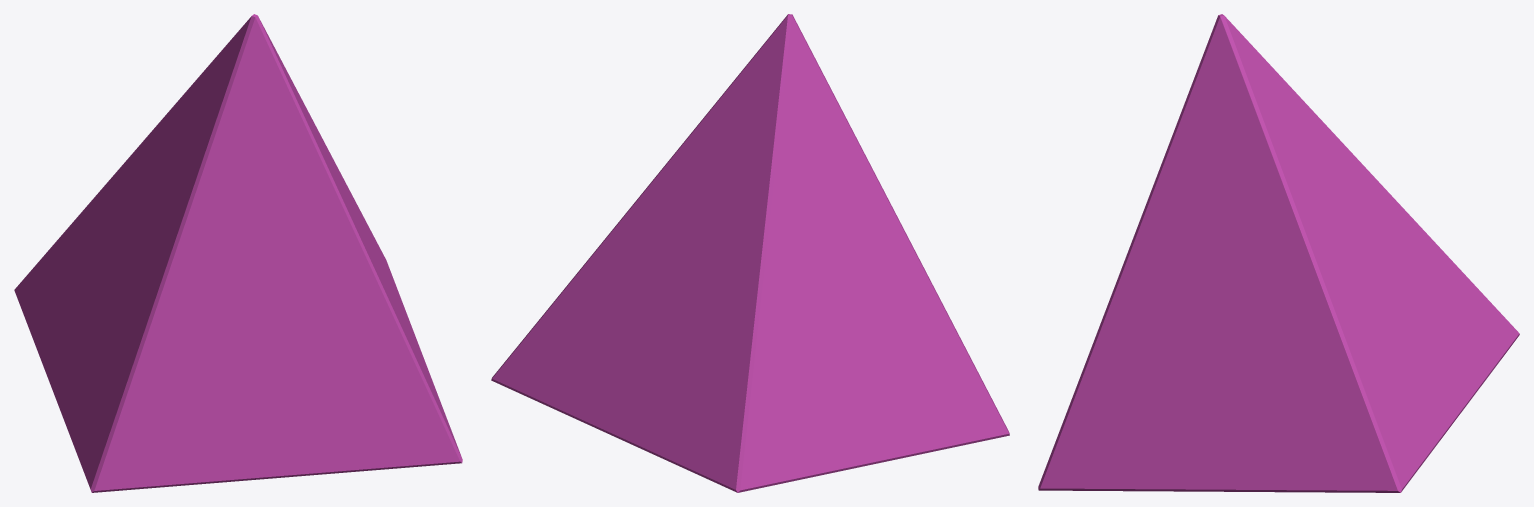
Rendered from pyramide.fbx.
3 renders of one model, left to right at view 1: azimuth 30°, elevation 25°; view 2: azimuth 150°, elevation 25°; view 3: azimuth 270°, elevation 25°, orthographic. The views are drawn at different scales.
Parts seen in each view (by area): view 1: Pyramid001; view 2: Pyramid001; view 3: Pyramid001.
Boxes of the visible parts, left/top/right/bottom form: Pyramid001: left=14, top=14, right=462, bottom=492; Pyramid001: left=491, top=14, right=1009, bottom=492; Pyramid001: left=1038, top=14, right=1519, bottom=492.
Bounding box in the file's own units: 312 × 296 × 310.
